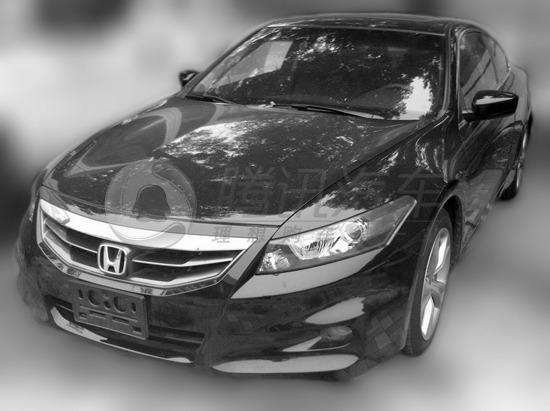car: (16, 16, 534, 380)
